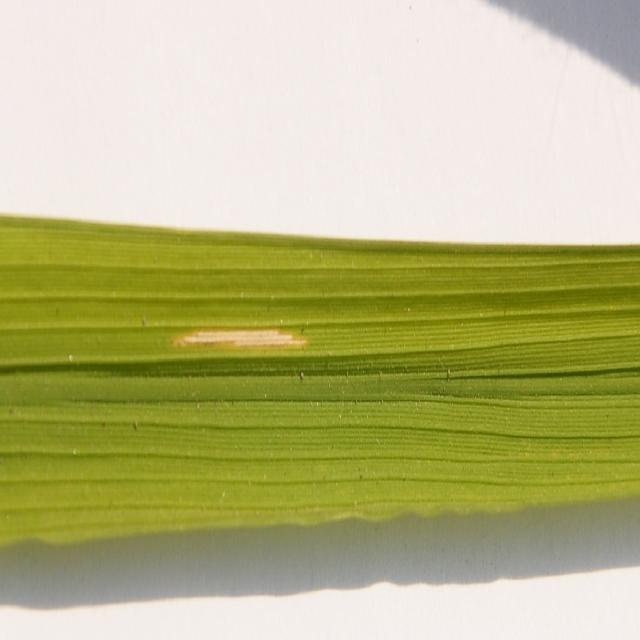leaf blight: (164, 314, 315, 365)
